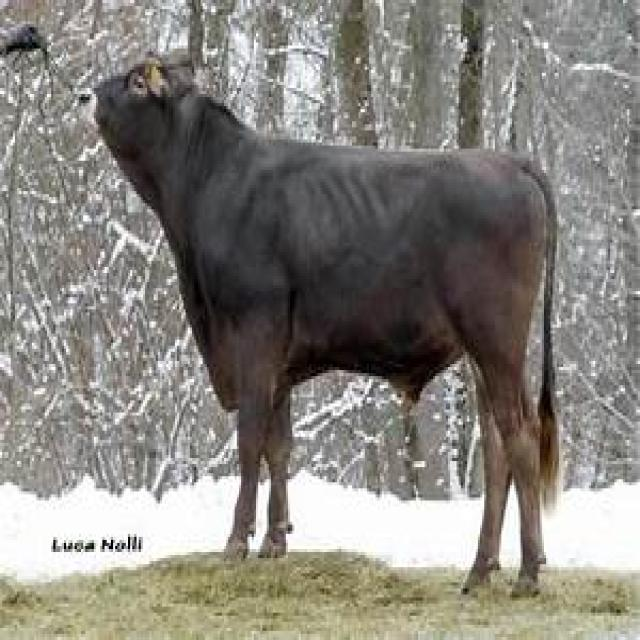cow: (78, 54, 558, 605)
